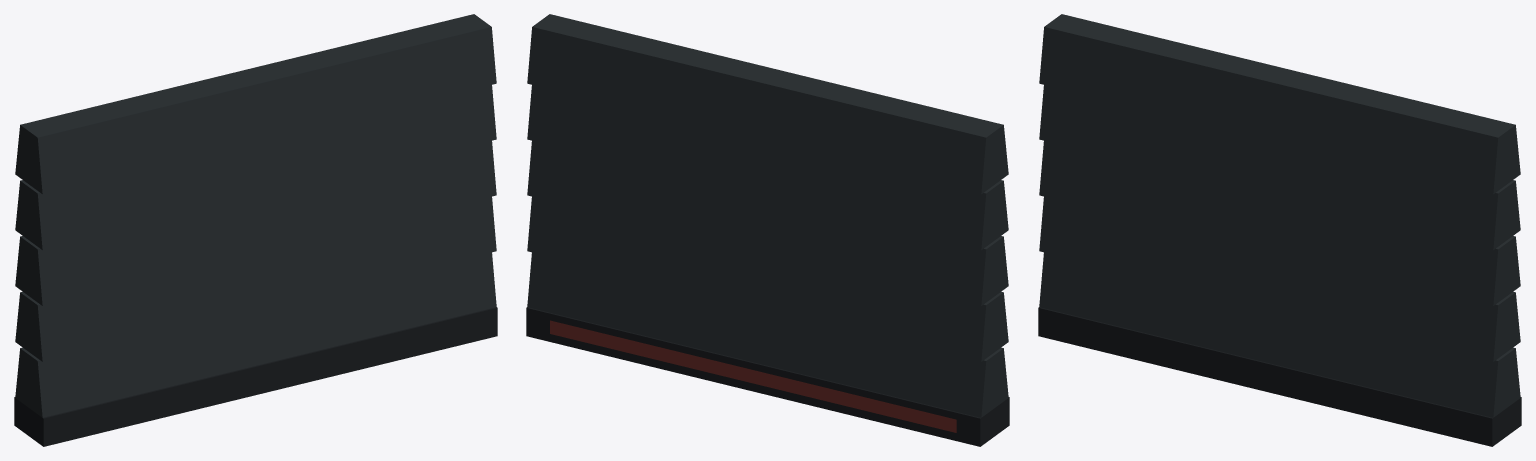
Rendered from lp_blast_shutter.glb.
3 renders of one model, left to right at view 1: azimuth 30°, elevation 25°; view 2: azimuth 150°, elevation 25°; view 3: azimuth 330°, elevation 25°, orthographic.
Parts seen in each view (by area): view 1: lp_blast_shutter; view 2: lp_blast_shutter; view 3: lp_blast_shutter.
Boxes of the visible parts, x1,y1,x2,y2 form: lp_blast_shutter: (14, 14, 497, 446); lp_blast_shutter: (526, 14, 1009, 446); lp_blast_shutter: (1038, 14, 1521, 446).
Size of the model in its own units: 1.34 by 0.86 by 0.1505.
Materials: 1 (1 with a texture image).
